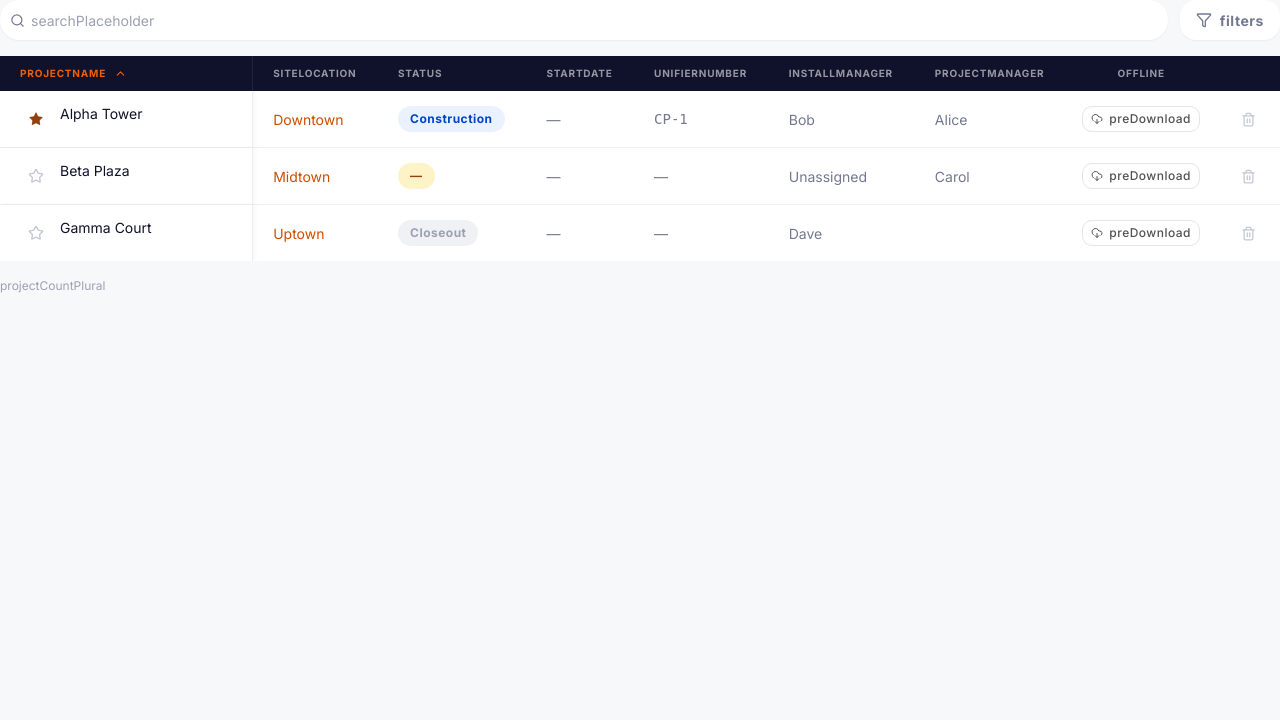
it: ProjectsTable › accepts 'delete' typed in any case
Click the button named "Delete Alpha Tower".
click(1248, 119)  # box x1=1232 y1=103 x2=1264 y2=135
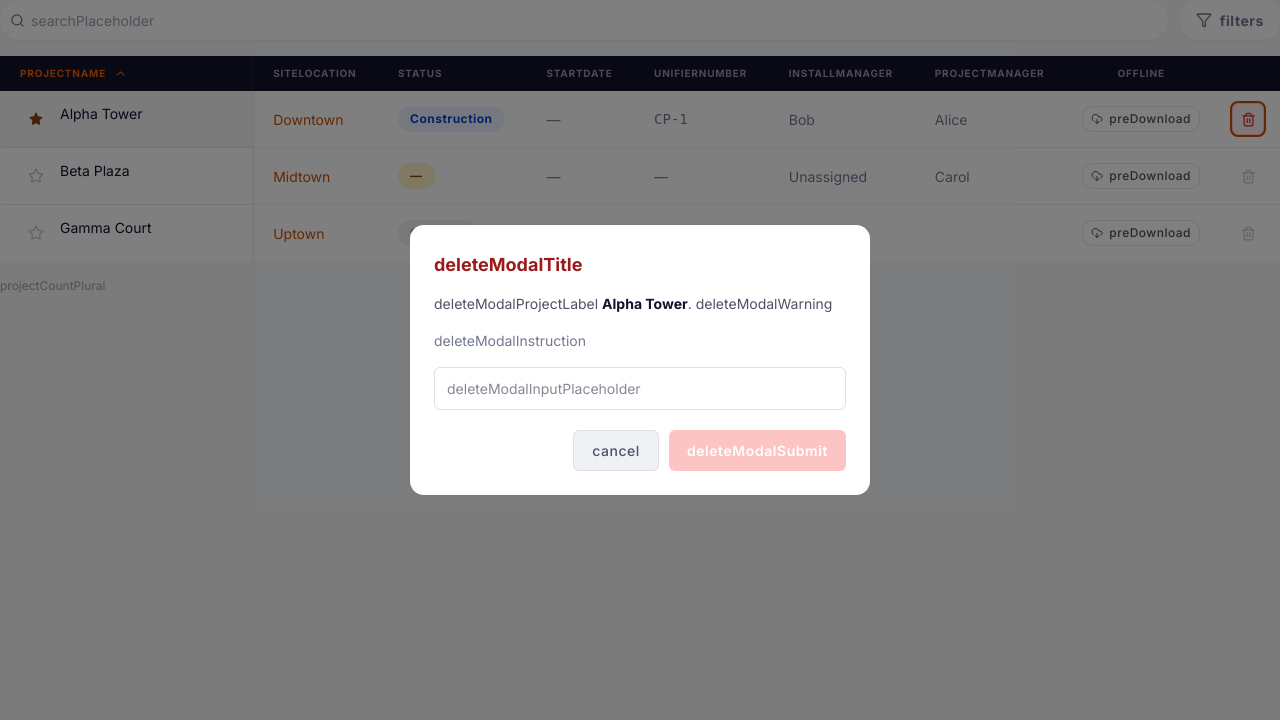
Type "DELETE" into the field named "deleteModalInputLabel".
click(640, 388); type("DELETE")  # box x1=434 y1=367 x2=846 y2=410
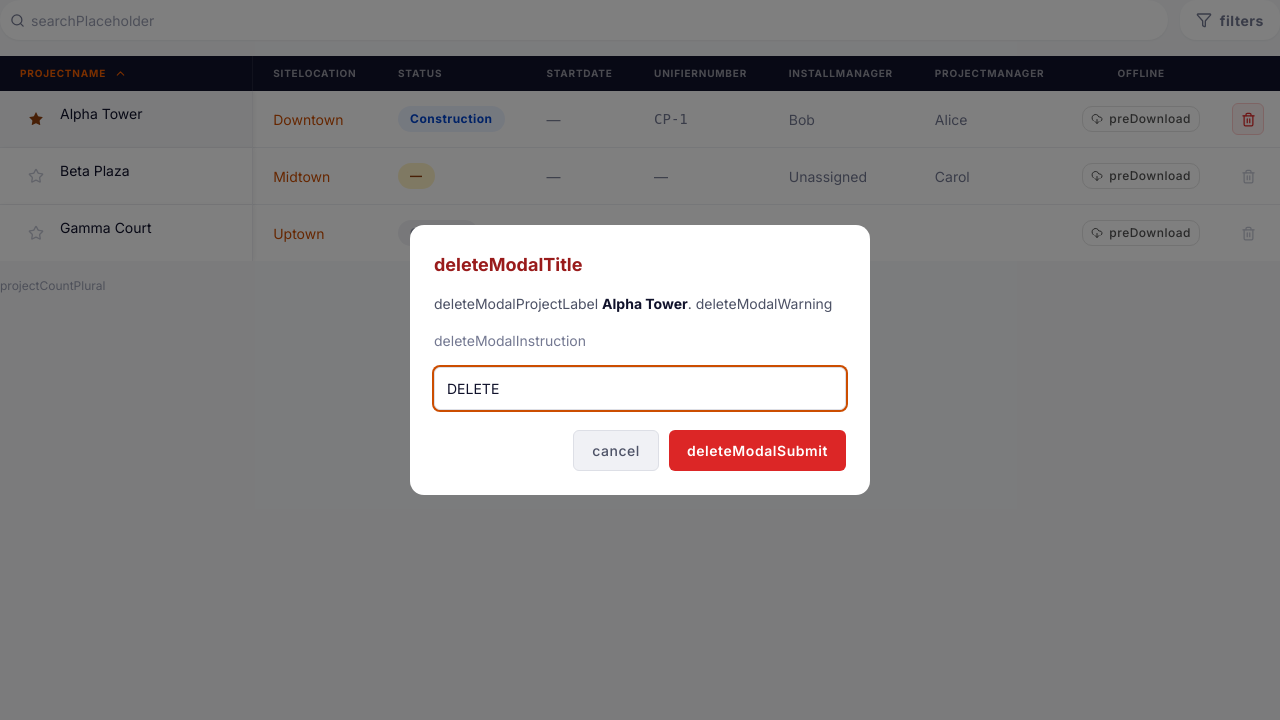
Expected: the button with aria-label "confirmDeleteAria" is enabled, x1=669 y1=430 x2=846 y2=471
